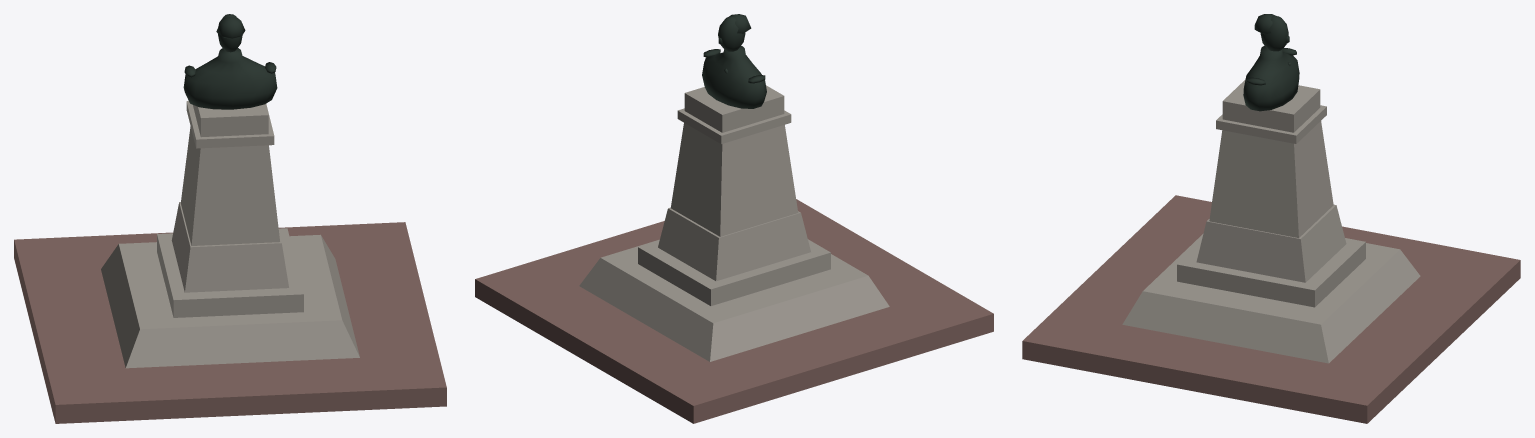
Rendered from ushakov.lod.glb.
The picture shows the model from 3 angles, left to right: view 1: azimuth 30°, elevation 25°; view 2: azimuth 150°, elevation 25°; view 3: azimuth 270°, elevation 25°; orthographic projection. The views are drawn at different scales.
Parts seen in each view (by area): view 1: ushakov_stone, ushakov_wall2, ushakov_wall3; view 2: ushakov_wall2, ushakov_stone, ushakov_wall3; view 3: ushakov_wall2, ushakov_stone, ushakov_wall3.
Part boxes in pixels (x1,y1,x2,y2): ushakov_stone: (14,222,446,423); ushakov_wall2: (101,101,359,368); ushakov_wall3: (183,14,277,109); ushakov_wall2: (579,85,889,361); ushakov_stone: (475,199,993,423); ushakov_wall3: (702,14,766,108); ushakov_wall2: (1122,79,1420,363); ushakov_stone: (1022,195,1520,423); ushakov_wall3: (1243,14,1299,111).
Size of the model in its own units: 7.92 by 5.33 by 7.92.
